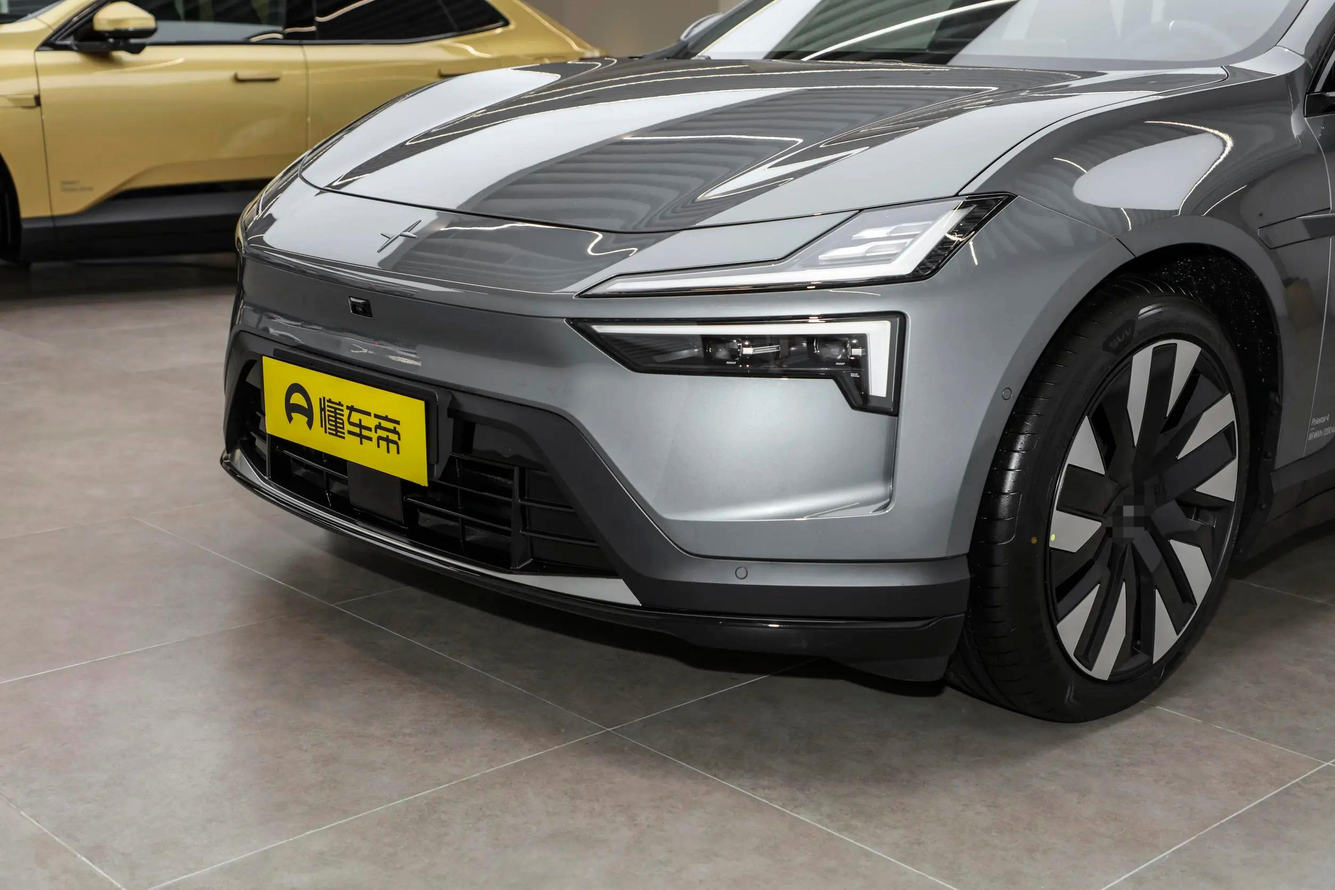Polestar: (377, 220, 421, 253)
